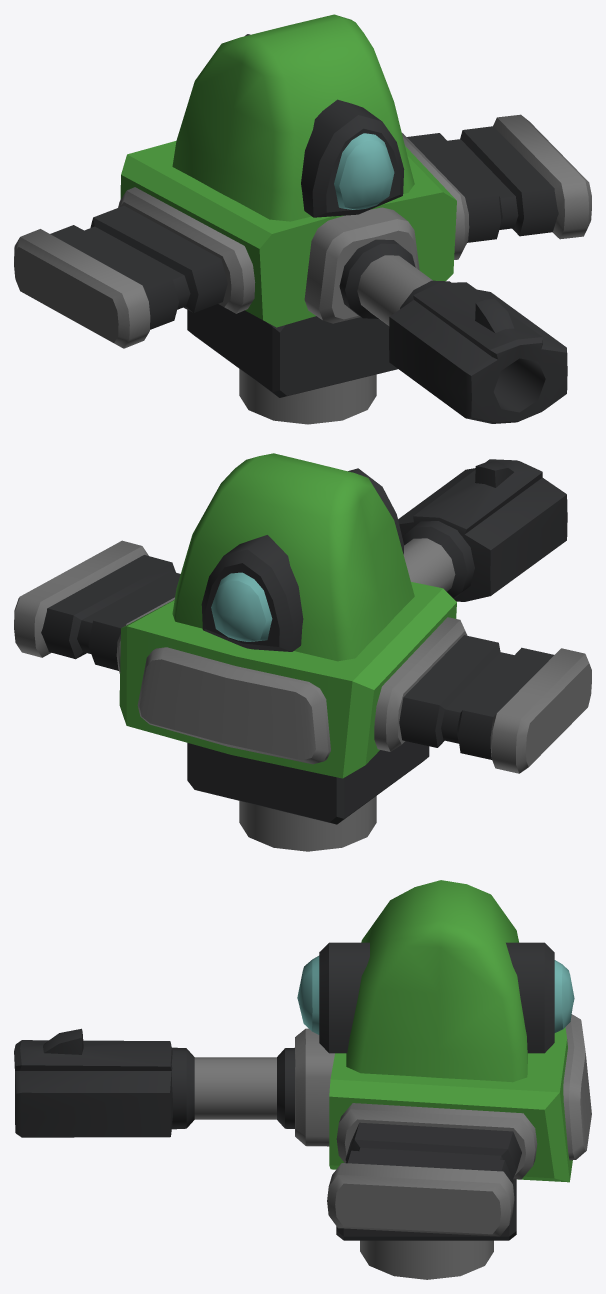
File: Shot_t_1_LP.fbx
3 views of the same model, one above another, from view 1: azimuth 30°, elevation 25°; view 2: azimuth 150°, elevation 25°; view 3: azimuth 270°, elevation 25° (orthographic). The views are drawn at different scales.
Visible parts, largest first — view 1: Shot_t_1; view 2: Shot_t_1; view 3: Shot_t_1.
Boxes of the visible parts, <box> form: Shot_t_1: <box>14,14,591,424</box>; Shot_t_1: <box>14,453,591,851</box>; Shot_t_1: <box>14,880,591,1279</box>.
Bounding box in the file's own units: 149 × 100 × 149.
